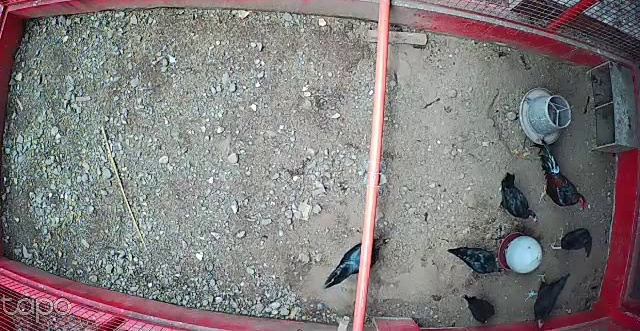Chicken: (323, 236, 390, 293), (522, 268, 571, 331), (496, 171, 540, 223), (445, 243, 506, 278), (549, 225, 595, 259), (460, 290, 496, 324)
Feeder: (520, 87, 572, 144)
Leg_Band_Green: (530, 291, 535, 298)
Rooster: (531, 137, 588, 212)
